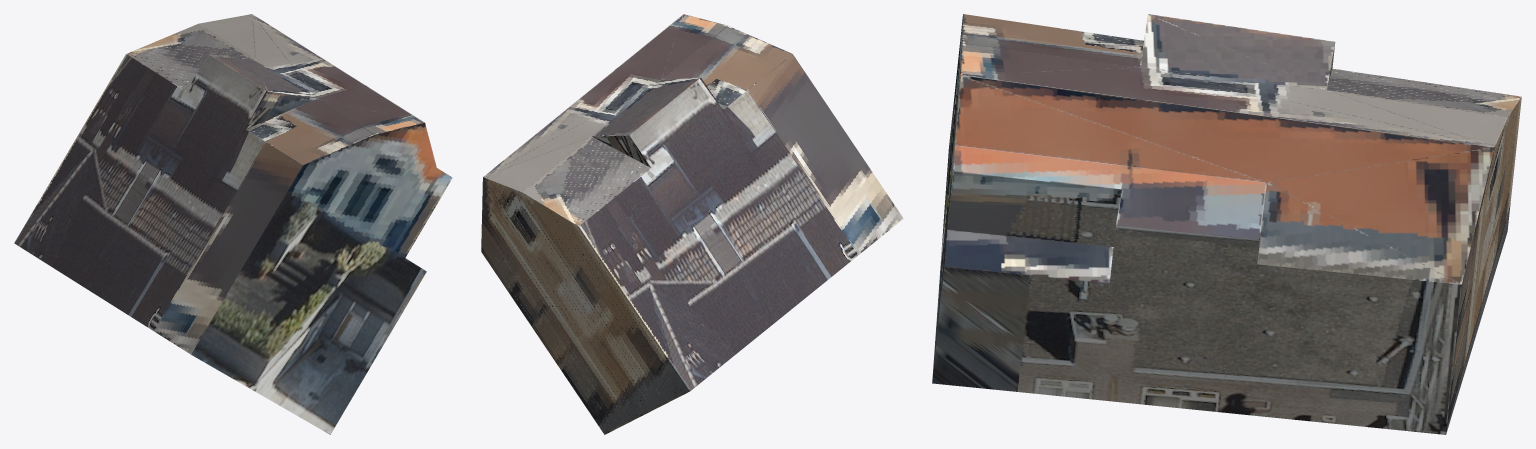
3 renders of one model, left to right at view 1: azimuth 30°, elevation 25°; view 2: azimuth 150°, elevation 25°; view 3: azimuth 270°, elevation 25°, orthographic. The views are drawn at different scales.
Visible parts, largest first — view 1: BAG_0599100000760478 (×4); view 2: BAG_0599100000760478 (×4); view 3: BAG_0599100000760478 (×4).
Part boxes in pixels (box(x1,y1,x2,y2)): BAG_0599100000760478 (×4): box(14, 14, 452, 434); BAG_0599100000760478 (×4): box(481, 14, 903, 434); BAG_0599100000760478 (×4): box(932, 14, 1521, 434).
Bounding box in the file's own units: 12.43 × 12.7 × 16.03.
1 material, 1 textured.
